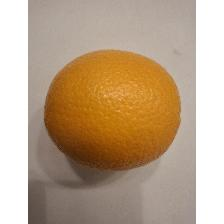Orange: (40, 46, 184, 174)
